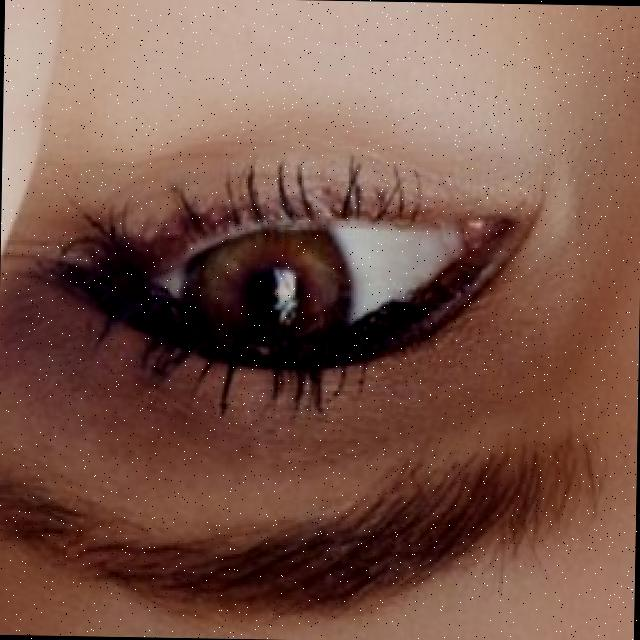Normal: (19, 130, 560, 437)
